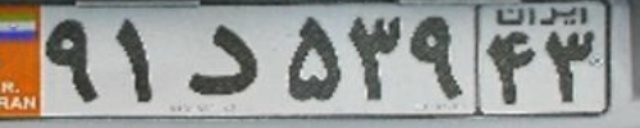1: (114, 19, 156, 101)
3: (348, 15, 401, 101), (544, 30, 597, 102)
4: (486, 31, 537, 105)
5: (284, 15, 339, 100)
9: (44, 18, 101, 102), (408, 14, 464, 99)
dal: (185, 22, 261, 97)
